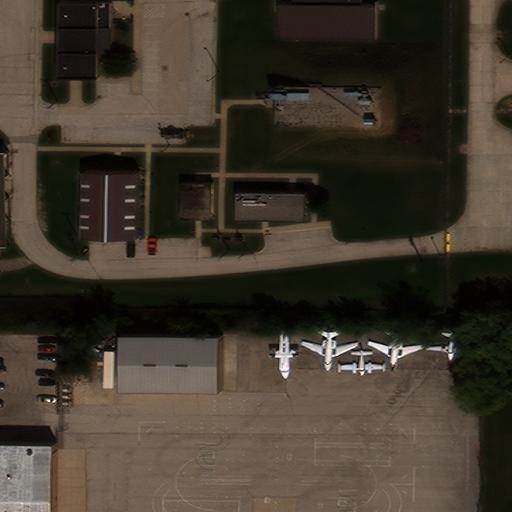Small Civil Transport: (365, 329, 423, 370), (301, 330, 358, 371), (426, 331, 473, 360), (337, 350, 386, 376)
